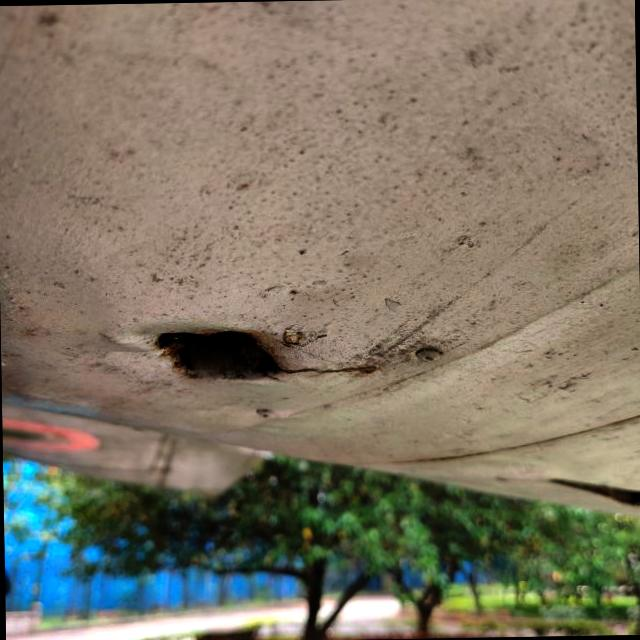crack: (113, 302, 390, 404)
